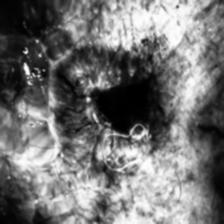Potentially Malignant Skin Tumors: (54, 60, 178, 164)
